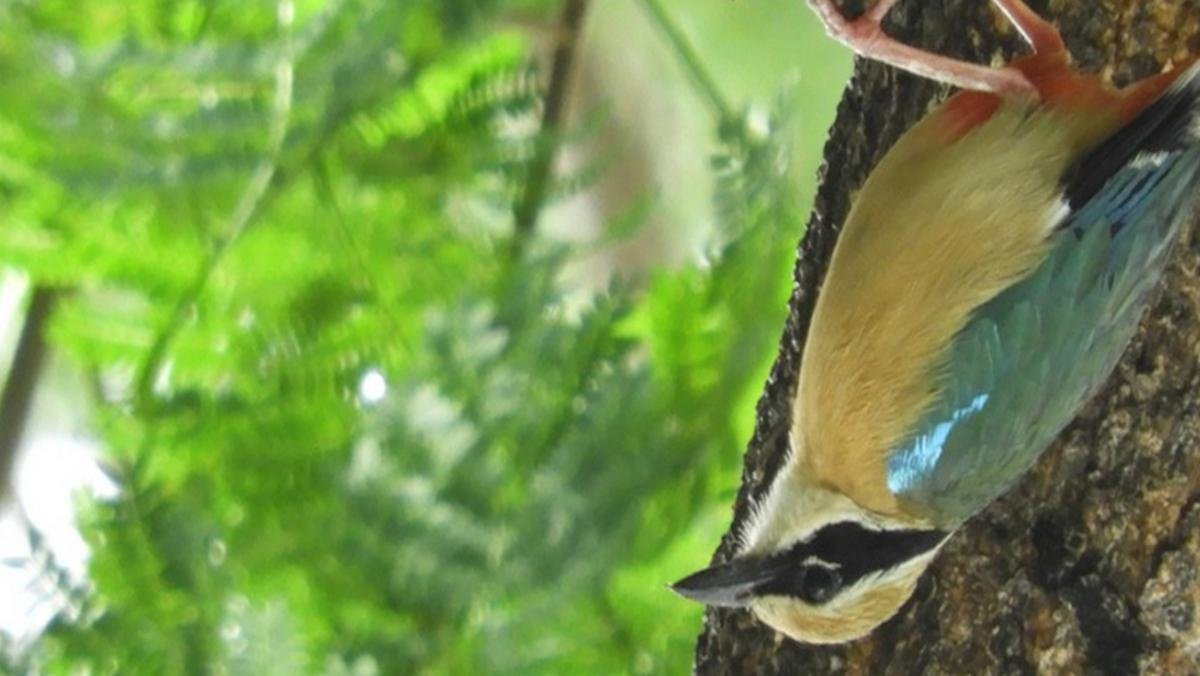pitta: (643, 36, 1200, 660)
